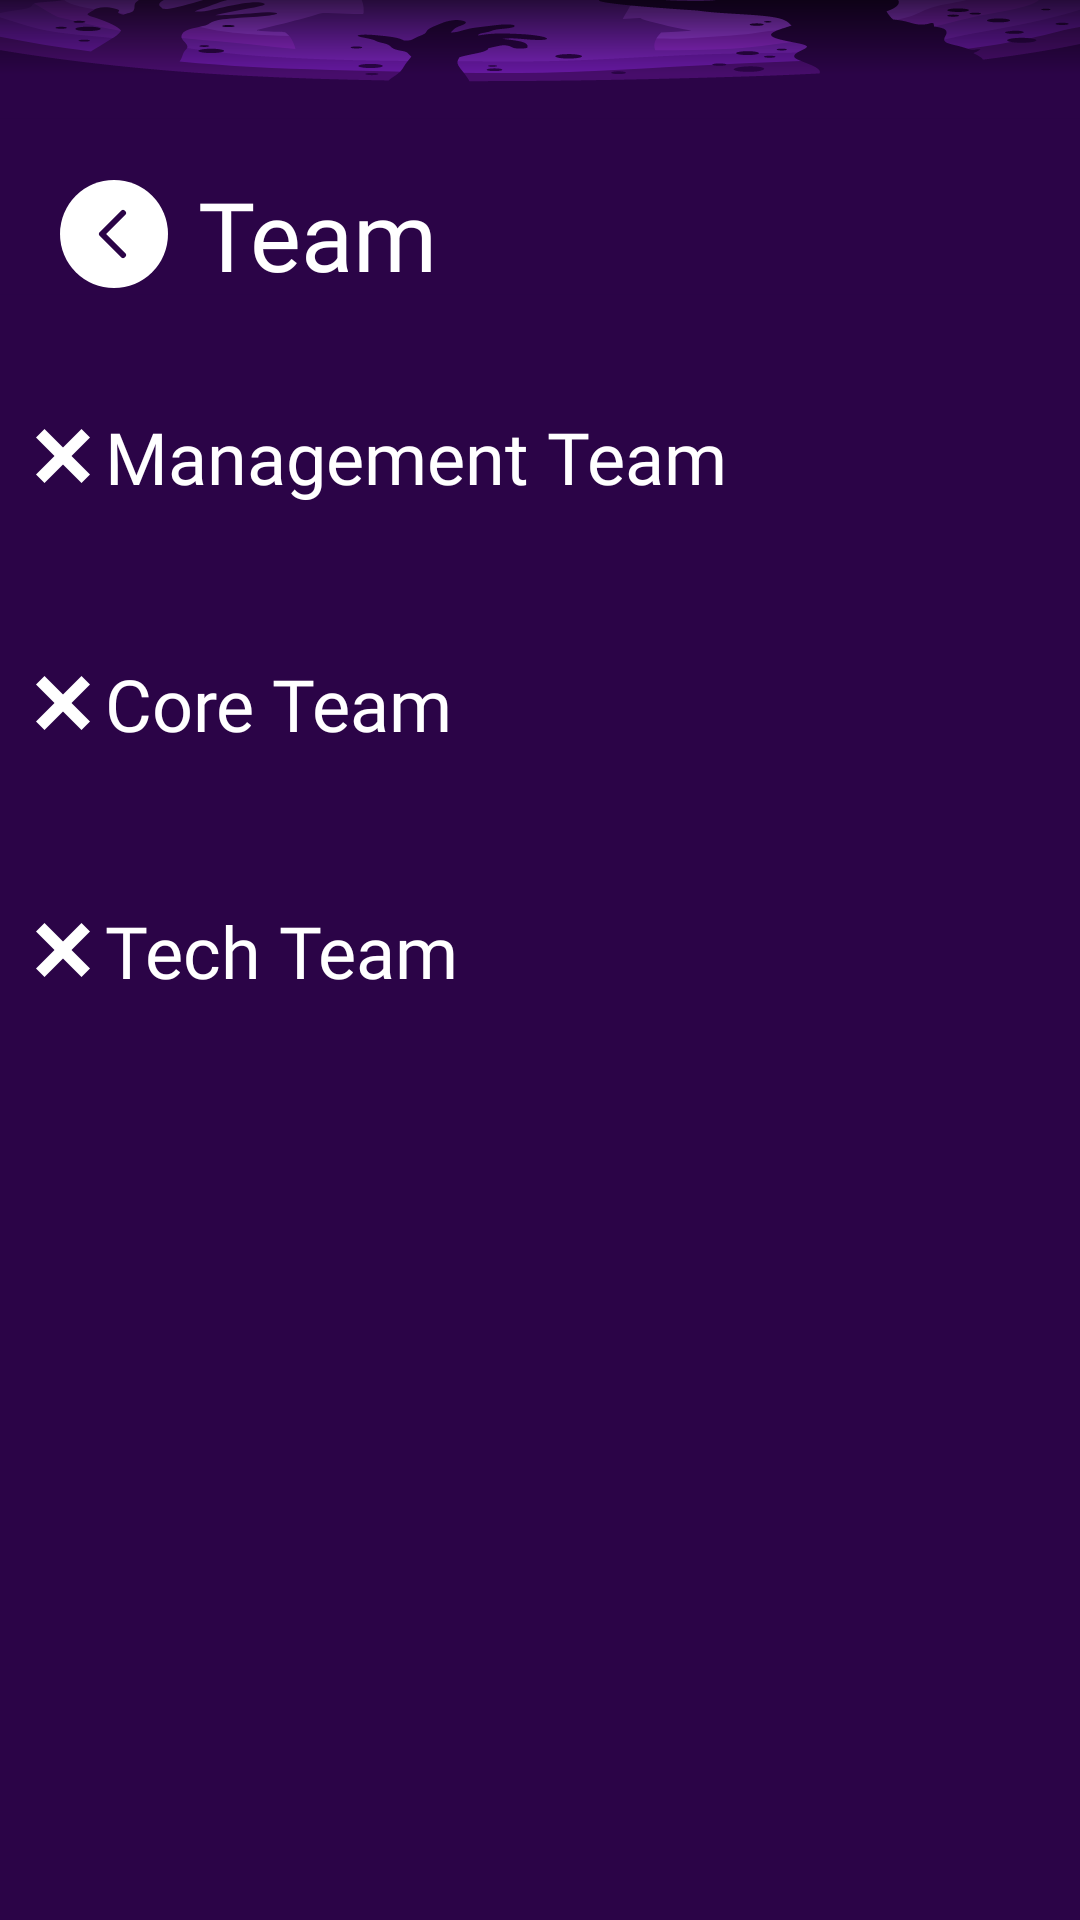

Icon click points for this 1080x1920 phone screenshot, format [x,y]:
back: [114,234]
cross: [63,456], [63,703], [63,950]
